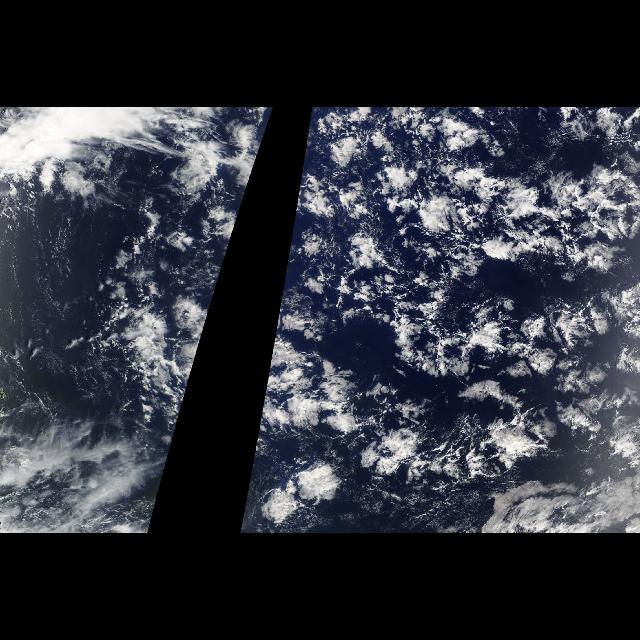Flower: (260, 110, 638, 514), (260, 122, 270, 150)
